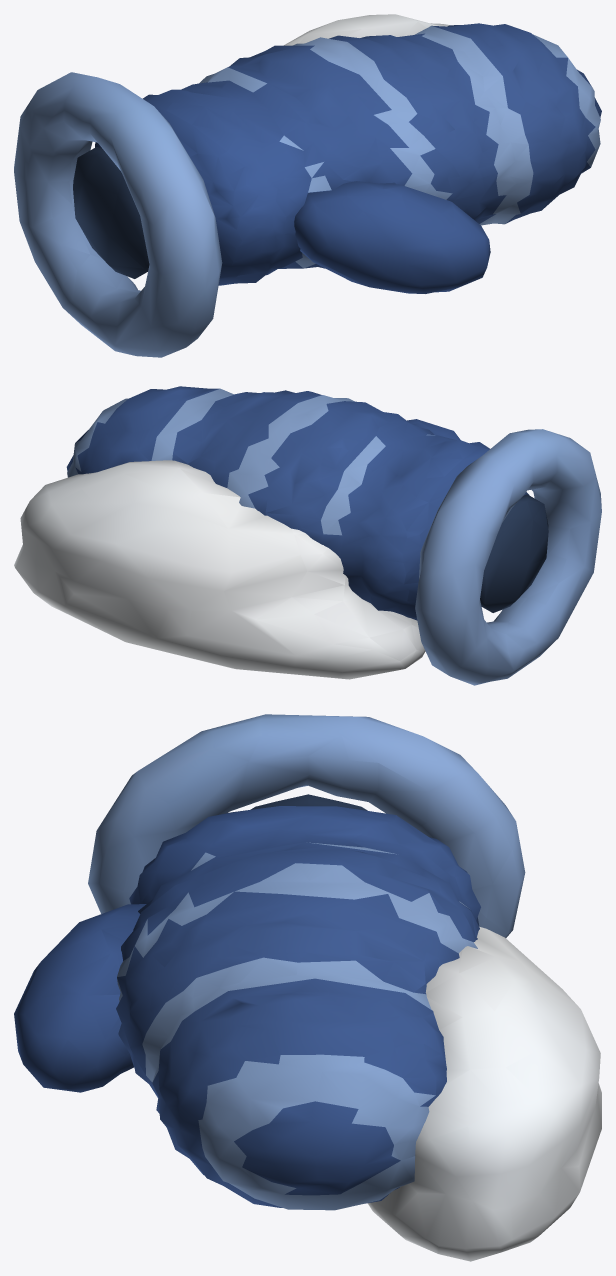
File: frost_lost_mitten_b_lod1.glb
The picture shows the model from 3 angles, top to bottom: view 1: azimuth 30°, elevation 25°; view 2: azimuth 150°, elevation 25°; view 3: azimuth 270°, elevation 25°; orthographic projection. The views are drawn at different scales.
Parts seen in each view (by area): view 1: frost_lost_mitten_b.001; view 2: frost_lost_mitten_b.001; view 3: frost_lost_mitten_b.001.
Boxes of the visible parts, left/top/right/bottom form: frost_lost_mitten_b.001: left=14, top=14, right=601, bottom=357; frost_lost_mitten_b.001: left=14, top=386, right=601, bottom=685; frost_lost_mitten_b.001: left=14, top=714, right=601, bottom=1261.
Bounding box in the file's own units: 7.21 × 3.39 × 5.82.
